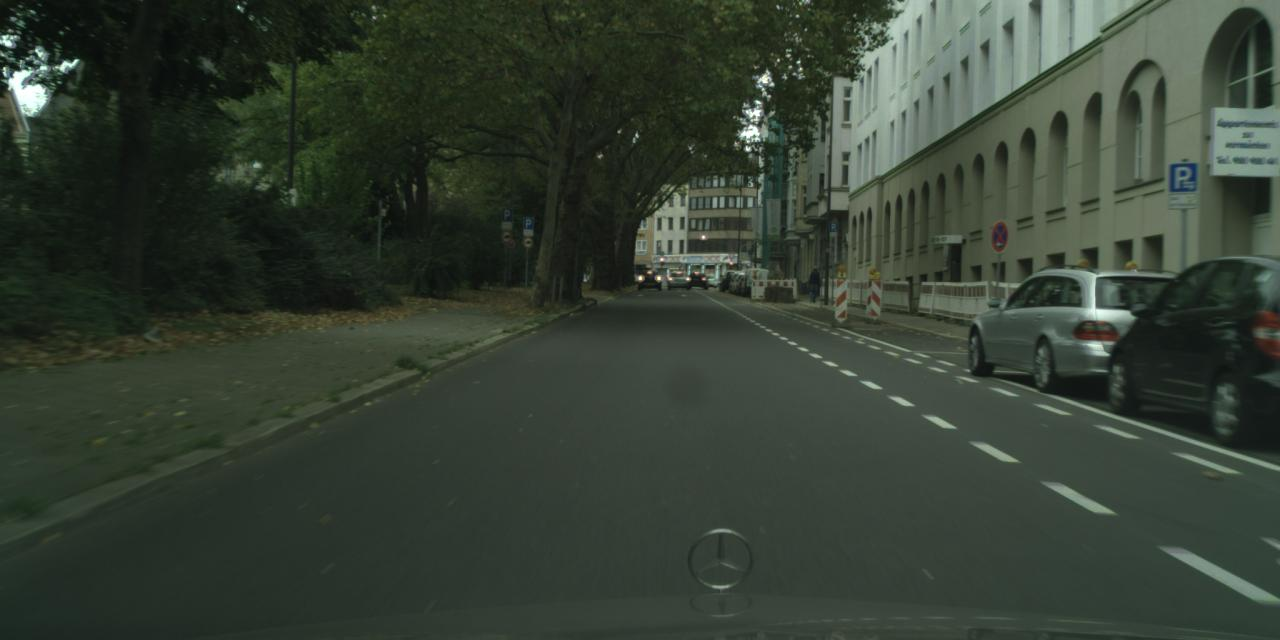ped: (806, 265, 820, 303)
